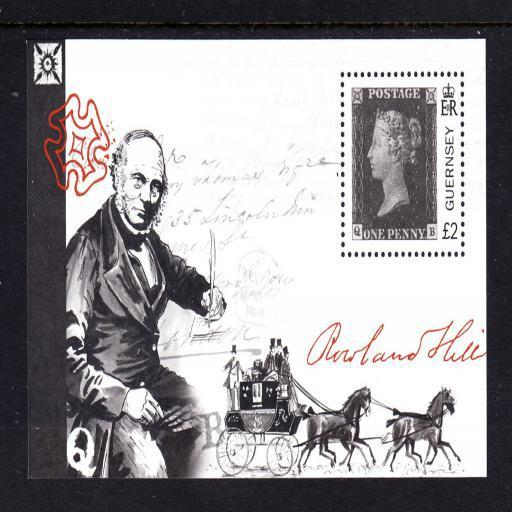horse: (296, 386, 378, 474), (386, 384, 456, 474)
